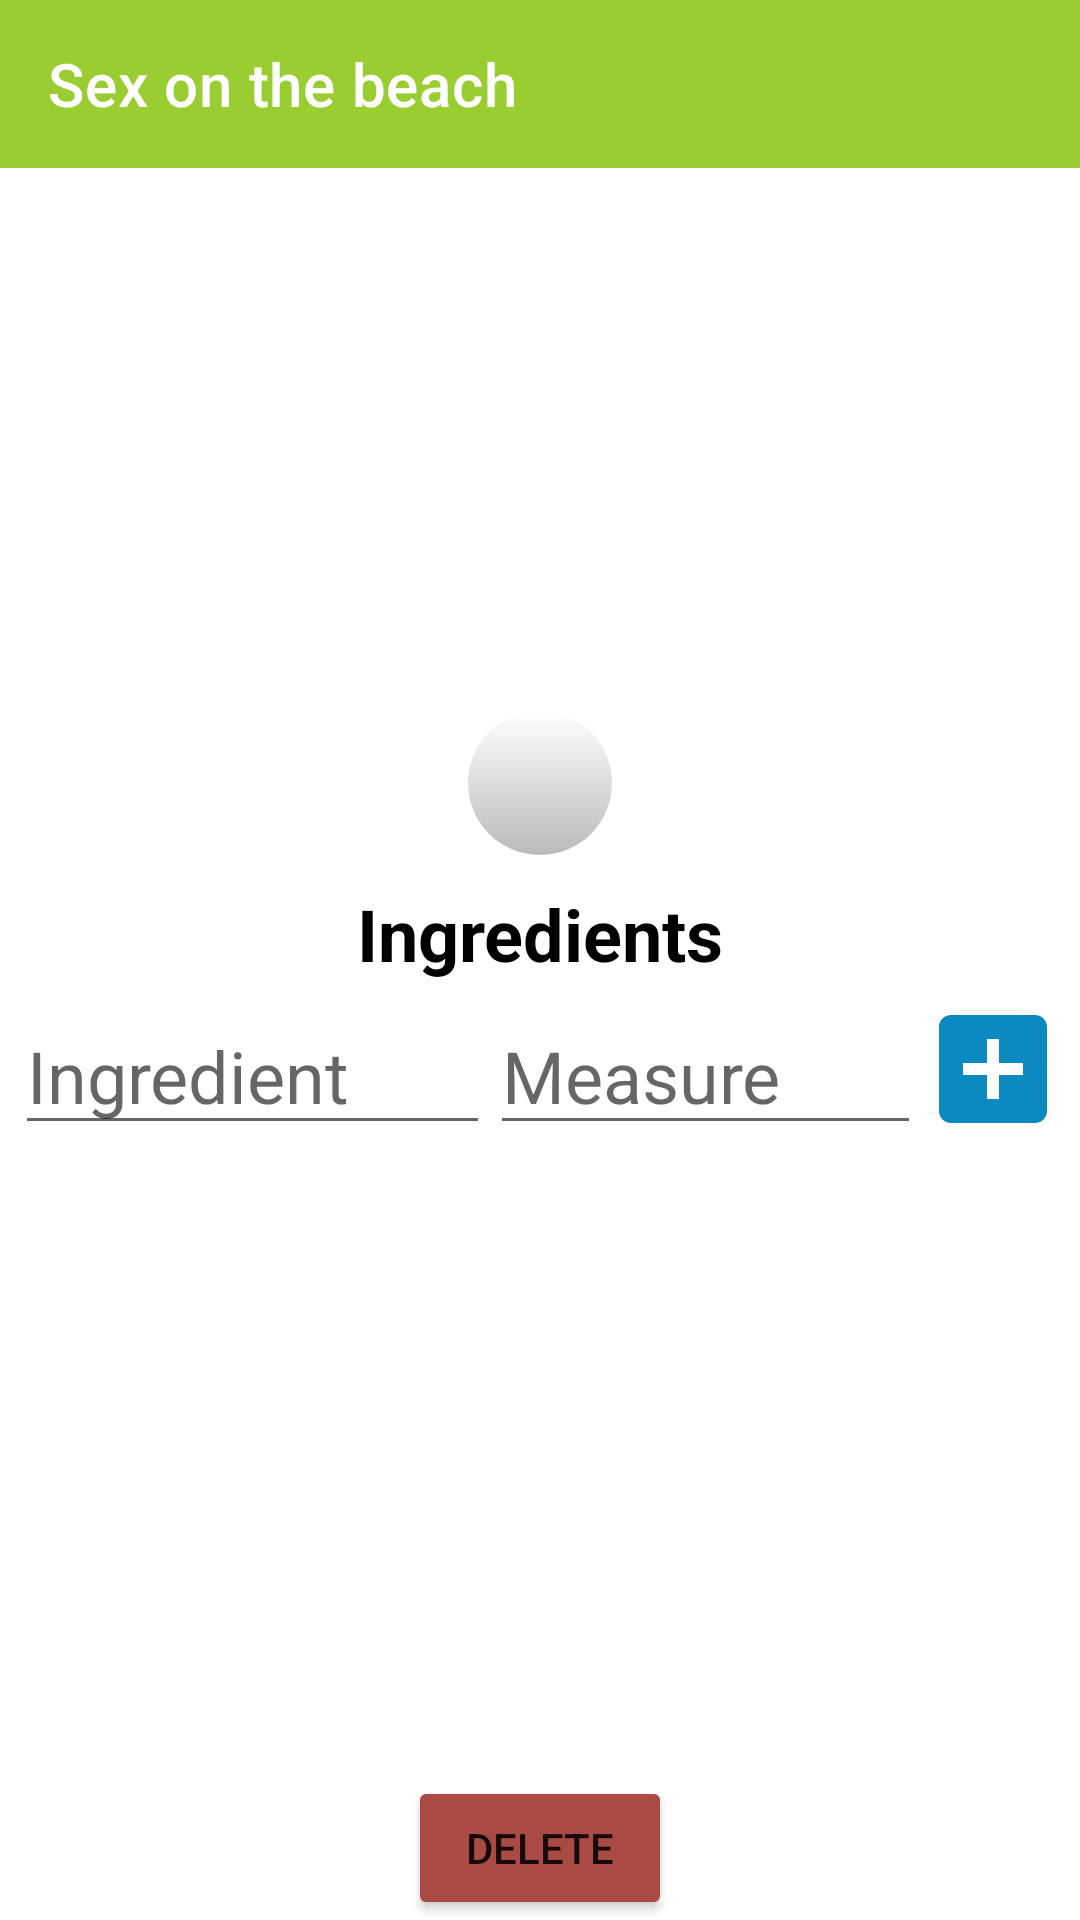

Where to tap for icons on this 1080px×1920px app screen, as (x,y):
Add: (993,1069)
